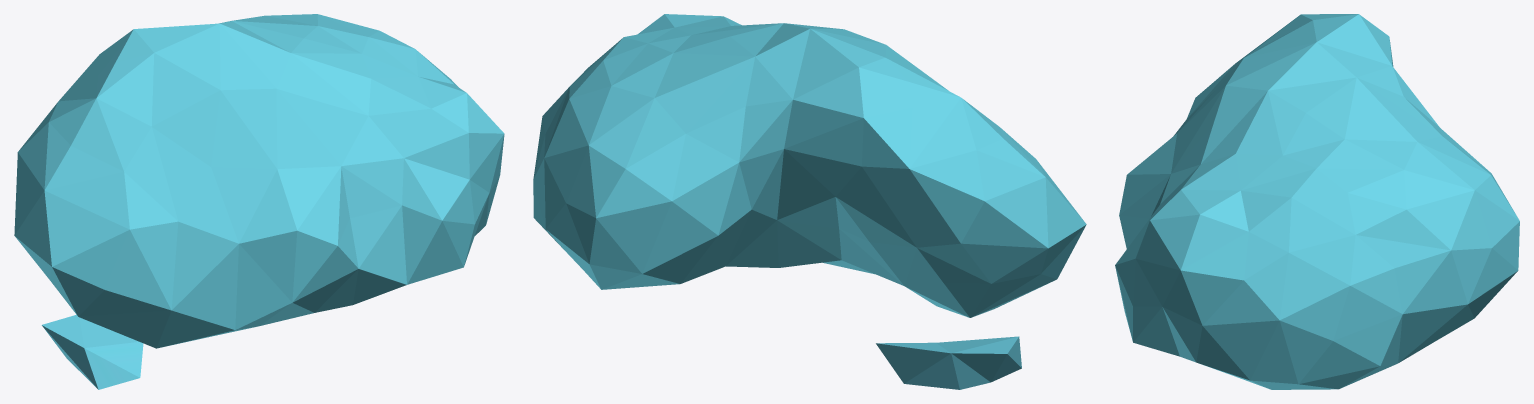
File: Cloud_2.fbx
The picture shows the model from 3 angles, left to right: view 1: azimuth 30°, elevation 25°; view 2: azimuth 150°, elevation 25°; view 3: azimuth 270°, elevation 25°; orthographic projection. The views are drawn at different scales.
Visible parts, largest first — view 1: Icosphere.155; view 2: Icosphere.155; view 3: Icosphere.155.
Boxes of the visible parts, box(x1,y1,x2,y2) form: Icosphere.155: box(14, 14, 504, 389); Icosphere.155: box(533, 14, 1086, 389); Icosphere.155: box(1115, 14, 1519, 389).
Bounding box in the file's own units: 351 × 230 × 261.
1 material, 1 textured.
